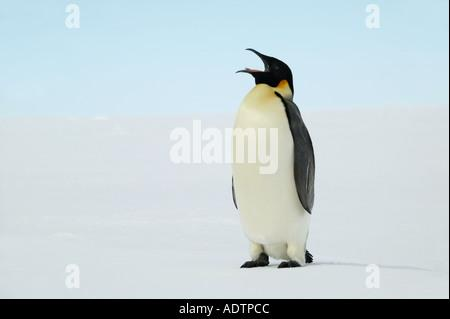emporer: (215, 42, 329, 276)
